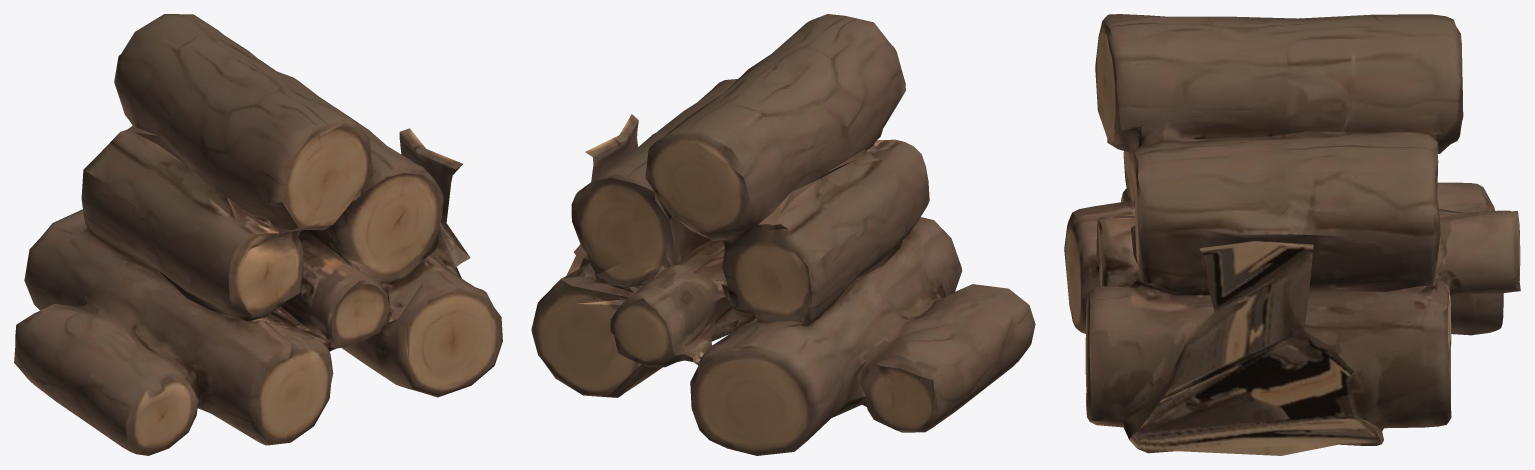
Rendered from LogStackSmall.glb.
The picture shows the model from 3 angles, left to right: view 1: azimuth 30°, elevation 25°; view 2: azimuth 150°, elevation 25°; view 3: azimuth 270°, elevation 25°; orthographic projection. The views are drawn at different scales.
Visible parts, largest first — view 1: LogStackSmall; view 2: LogStackSmall; view 3: LogStackSmall.
Boxes of the visible parts, x1,y1,x2,y2 form: LogStackSmall: (14, 14, 502, 455); LogStackSmall: (531, 14, 1035, 455); LogStackSmall: (1064, 14, 1520, 455).
Bounding box in the file's own units: 1.19 × 0.9 × 1.09.
1 material, 1 textured.
